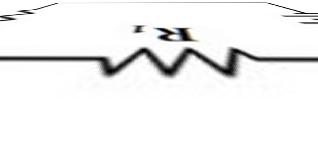resistor: (95, 38, 255, 95)
